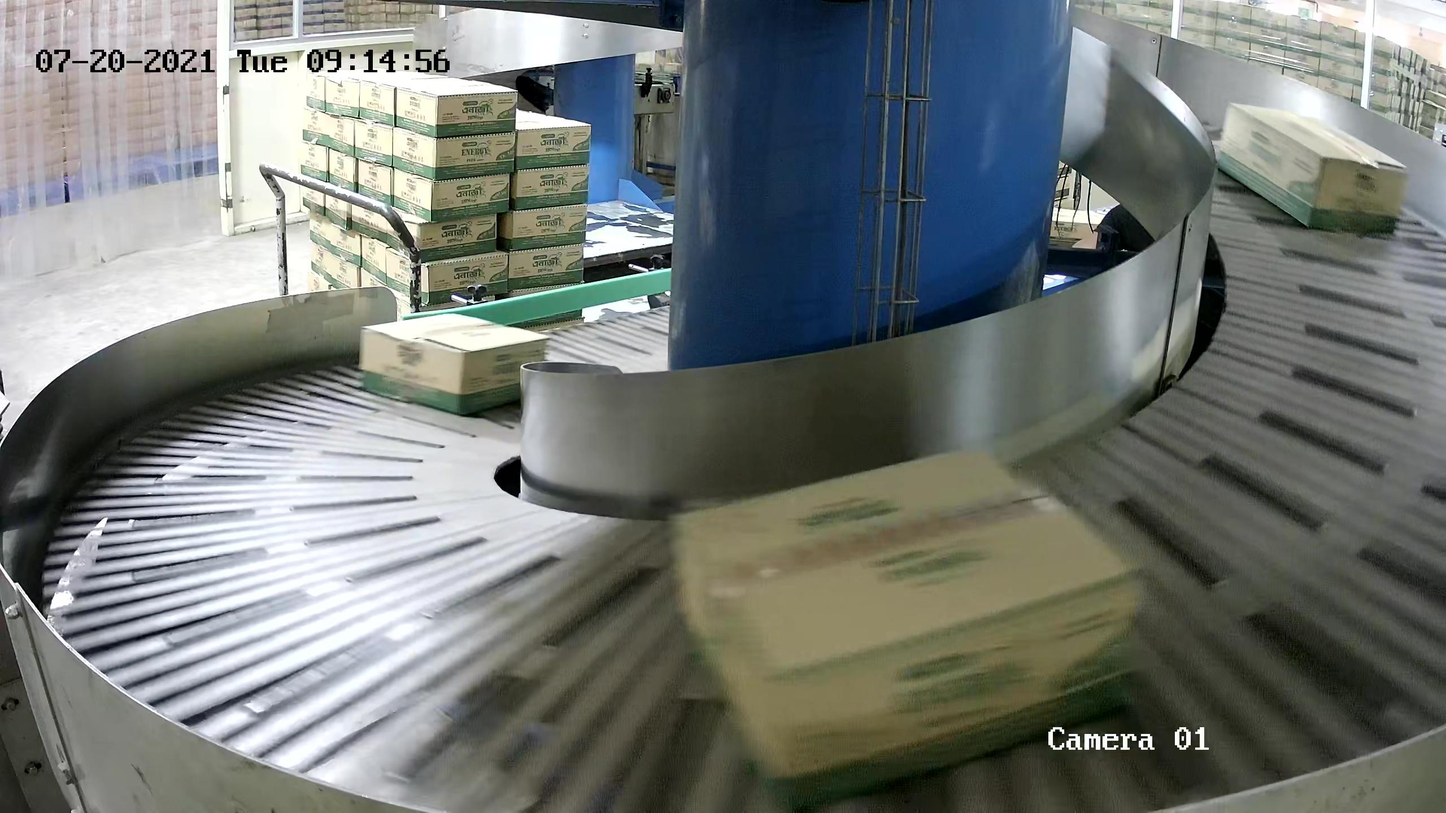Box: (675, 440, 1145, 813), (1213, 99, 1412, 235), (359, 313, 548, 417)
